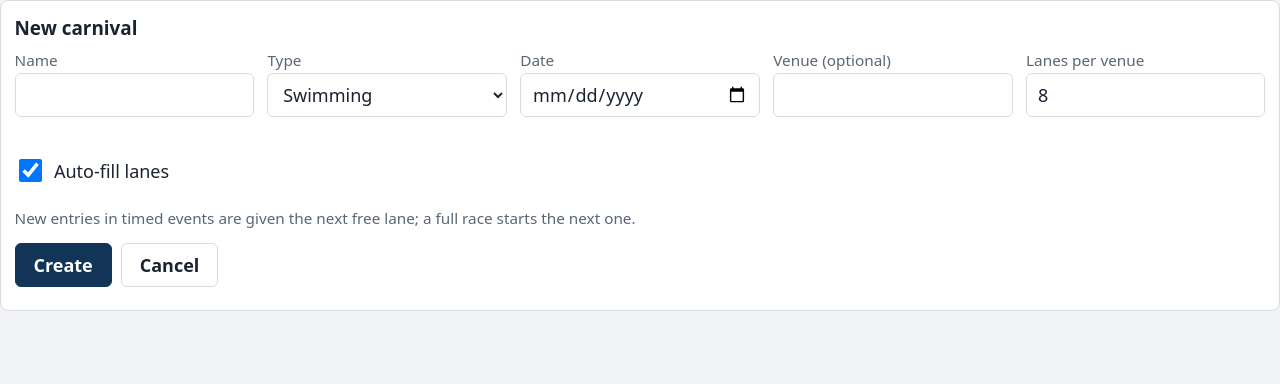
Test: NewCarnivalForm › stays put and says so when the create answers without an id
Type "Preston Swimming" into the field labelled "Name" at (134, 95), box [14,73,254,117]
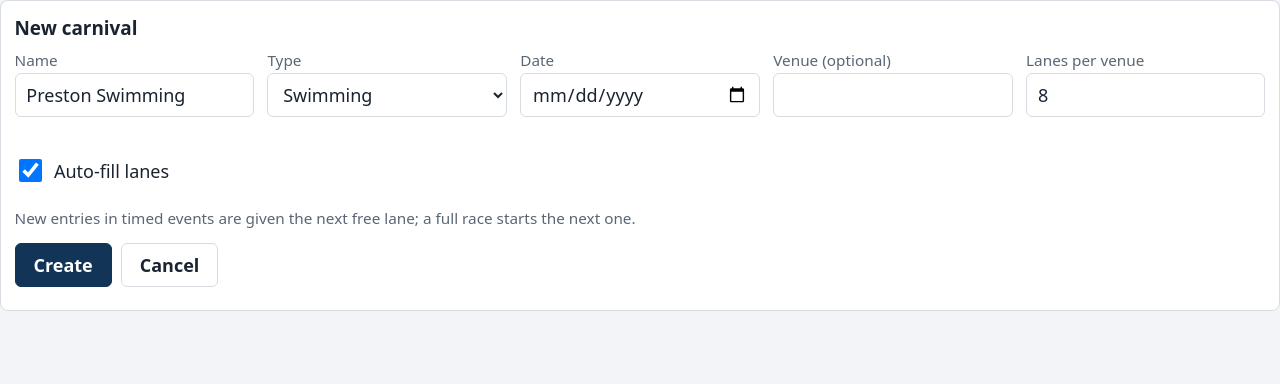
Type "2027-03-06" into the date field labelled "Date" at (640, 95), box [520,73,760,117]
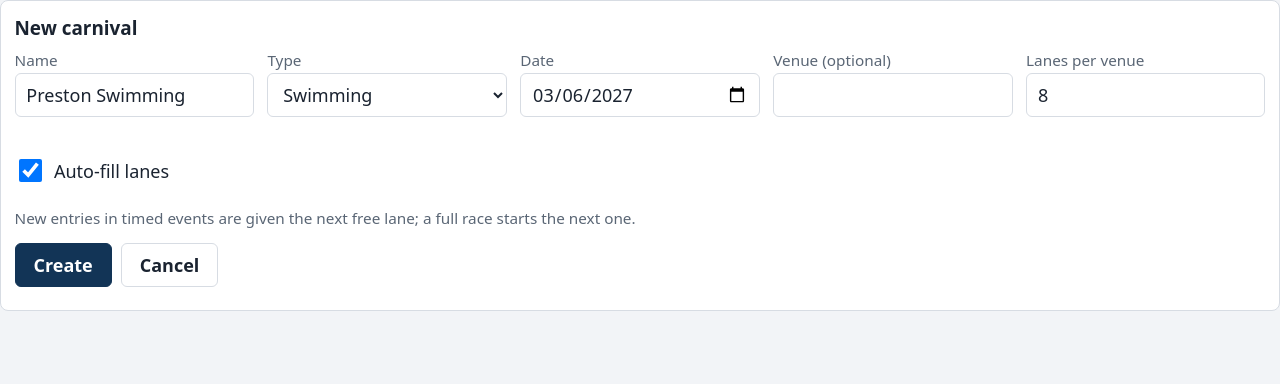
Click the button "Create" at (63, 265), box [14,243,112,287]
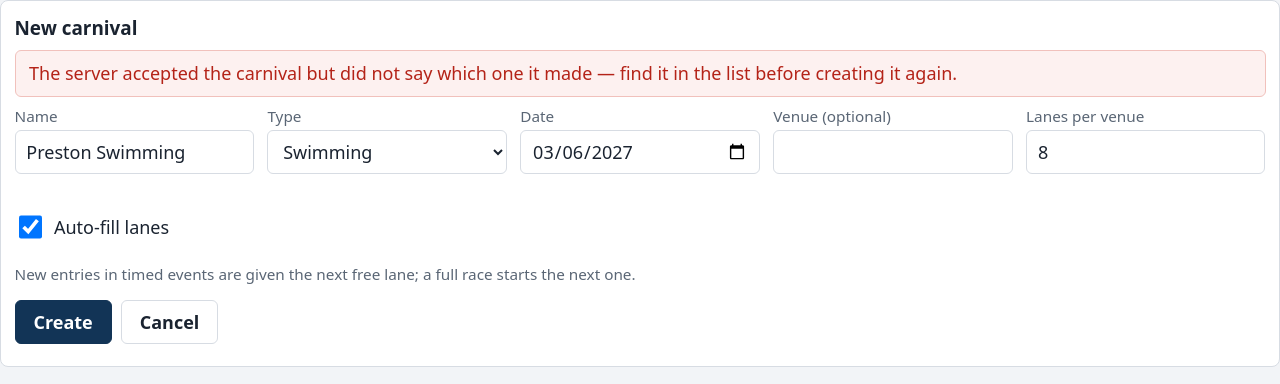
Result: the text "The server accepted the carnival but did not say which one it made — find it in the list before creating it again." is shown at [29,61,957,85]
